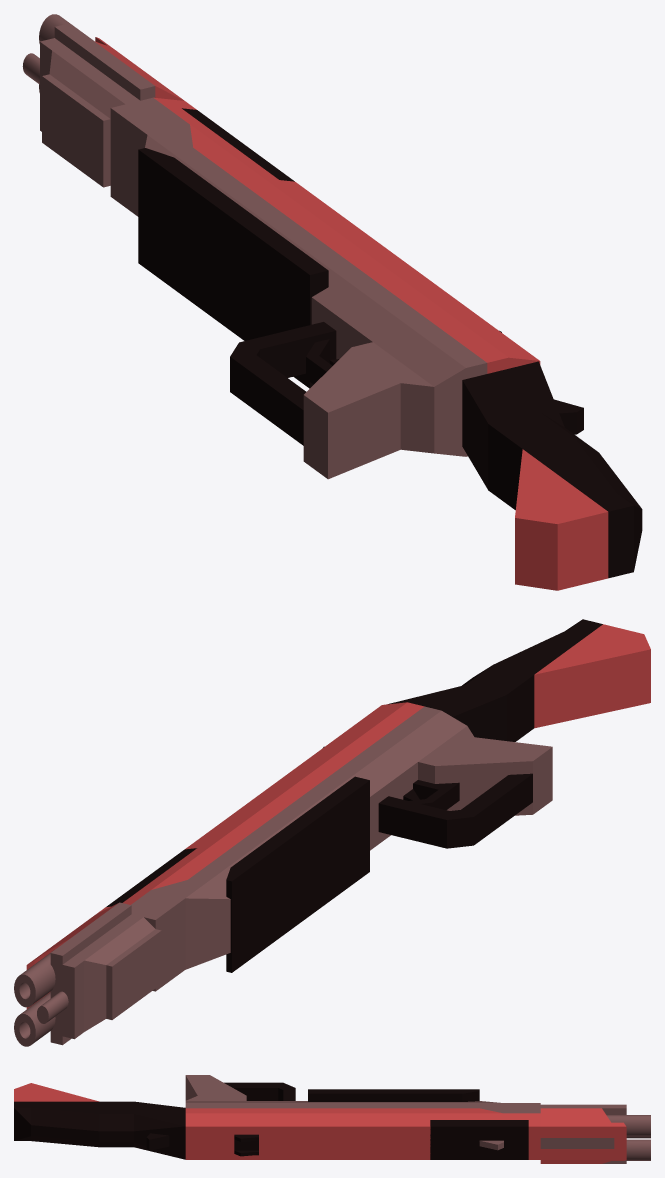
Rendered from Shotgun.glb.
3 views of the same model, one above another, from view 1: azimuth 30°, elevation 25°; view 2: azimuth 150°, elevation 25°; view 3: azimuth 270°, elevation 25° (orthographic). The views are drawn at different scales.
Visible parts, largest first — view 1: mergedBlocks(Clone); view 2: mergedBlocks(Clone); view 3: mergedBlocks(Clone).
Part boxes in pixels (x1,y1,x2,y2): mergedBlocks(Clone): (22,14,642,590); mergedBlocks(Clone): (14,619,650,1046); mergedBlocks(Clone): (14,1075,650,1163).
Size of the model in its own units: 1.08 by 0.5125 by 5.2.
